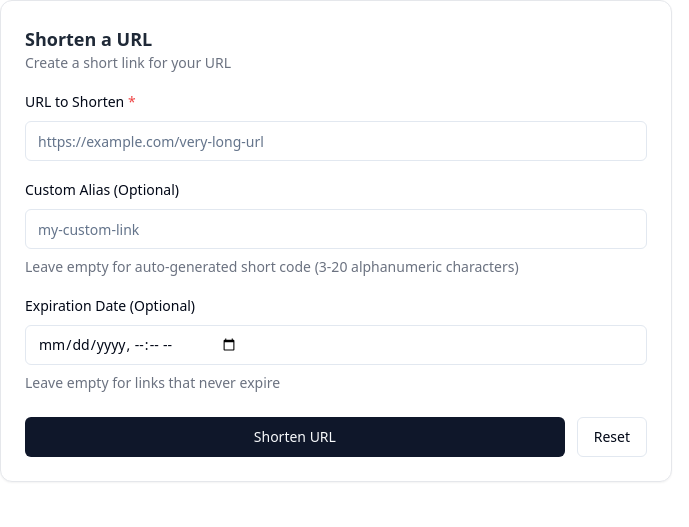
Test case: CreateUrlForm › shows validation error when submitting empty URL
This screenshot has width=689, height=527.
Click the button "Shorten URL" at (295, 437), box [25,417,565,457]
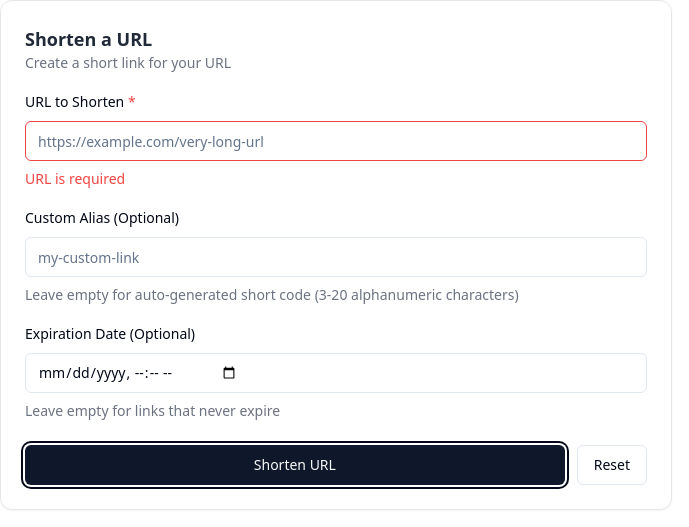
Now the text "URL is required" is shown, box [25,169,125,188]
